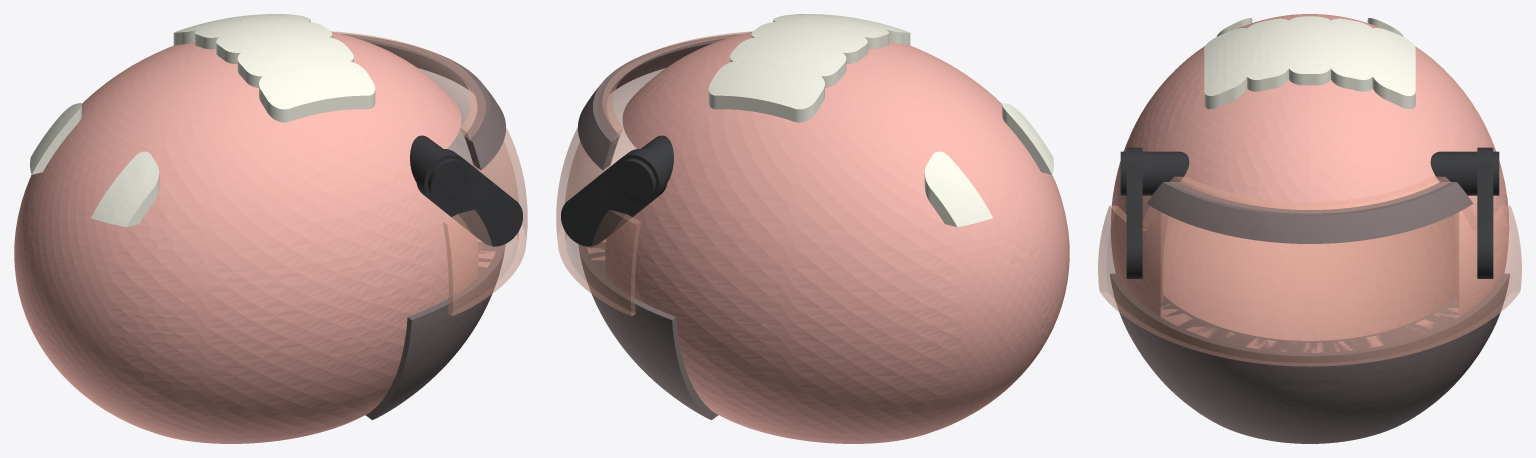
The model's file is Headwear_Racing_helmet__0003.glb.
3 renders of one model, left to right at view 1: azimuth 30°, elevation 25°; view 2: azimuth 150°, elevation 25°; view 3: azimuth 270°, elevation 25°, orthographic. The views are drawn at different scales.
Visible parts, largest first — view 1: shell::shell_dome, visor::visor_panel, shell::chin_trim, shell::vent_0, visor::visor_pivot_arms, visor::visor_trim, shell::vent_1, shell::rear_exhaust_1, shell::vent_2, shell::vent_3, shell::rear_exhaust_0, pivot_stud_right::pivot_stud_right (+2 smaller); view 2: shell::shell_dome, visor::visor_panel, shell::chin_trim, shell::vent_4, visor::visor_pivot_arms, visor::visor_trim, shell::vent_3, shell::rear_exhaust_0, shell::vent_2, shell::vent_1, shell::rear_exhaust_1, pivot_stud_left::pivot_stud_left (+2 smaller); view 3: shell::shell_dome, visor::visor_panel, shell::chin_trim, visor::visor_trim, visor::visor_pivot_arms, visor::visor_axle, shell::vent_0, shell::vent_4, shell::vent_2, shell::vent_3, shell::vent_1.
Boxes of the visible parts, x1,y1,x2,y2 form: shell::shell_dome: [14, 31, 495, 443]; visor::visor_panel: [331, 31, 527, 315]; shell::chin_trim: [365, 238, 505, 419]; shell::vent_0: [259, 60, 375, 122]; visor::visor_pivot_arms: [416, 149, 522, 246]; visor::visor_trim: [343, 34, 505, 170]; shell::vent_1: [237, 37, 353, 87]; shell::rear_exhaust_1: [91, 151, 159, 227]; shell::vent_2: [216, 21, 332, 64]; shell::vent_3: [195, 14, 310, 49]; shell::rear_exhaust_0: [30, 103, 81, 174]; pivot_stud_right::pivot_stud_right: [428, 158, 469, 202]; shell::shell_dome: [587, 31, 1069, 443]; visor::visor_panel: [556, 31, 752, 315]; shell::chin_trim: [578, 238, 718, 419]; shell::vent_4: [708, 60, 824, 122]; visor::visor_pivot_arms: [561, 149, 667, 246]; visor::visor_trim: [578, 34, 740, 170]; shell::vent_3: [730, 37, 846, 87]; shell::rear_exhaust_0: [924, 151, 992, 227]; shell::vent_2: [751, 21, 867, 64]; shell::vent_1: [773, 14, 888, 49]; shell::rear_exhaust_1: [1002, 103, 1053, 174]; pivot_stud_left::pivot_stud_left: [614, 158, 655, 202]; shell::shell_dome: [1111, 14, 1508, 352]; visor::visor_panel: [1098, 176, 1521, 366]; shell::chin_trim: [1110, 274, 1509, 443]; visor::visor_trim: [1146, 182, 1473, 243]; visor::visor_pivot_arms: [1126, 147, 1493, 278]; visor::visor_axle: [1142, 151, 1477, 195]; shell::vent_0: [1204, 28, 1248, 109]; shell::vent_4: [1371, 28, 1415, 109]; shell::vent_2: [1288, 16, 1331, 85]; shell::vent_3: [1330, 18, 1373, 91]; shell::vent_1: [1246, 18, 1289, 91].
Bounding box in the file's own units: 0.264 × 0.1934 × 0.2127.
5 materials, 2 textured.
